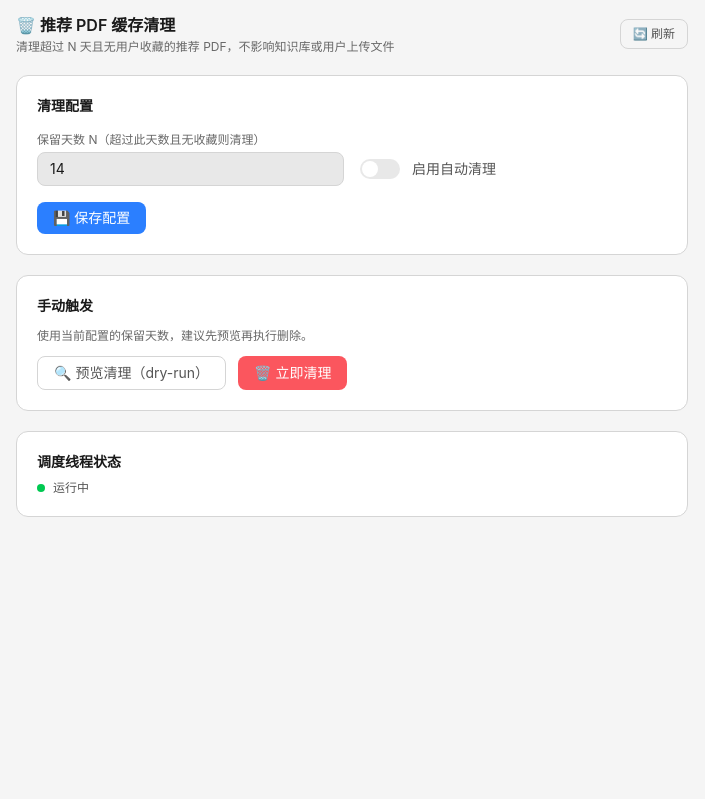
AdminPdfCleanupPanel › runs a dry-run preview and renders normalized results
Click the button "🔍 预览清理（dry-run）": coordinates (132, 373) [37,356,226,390]
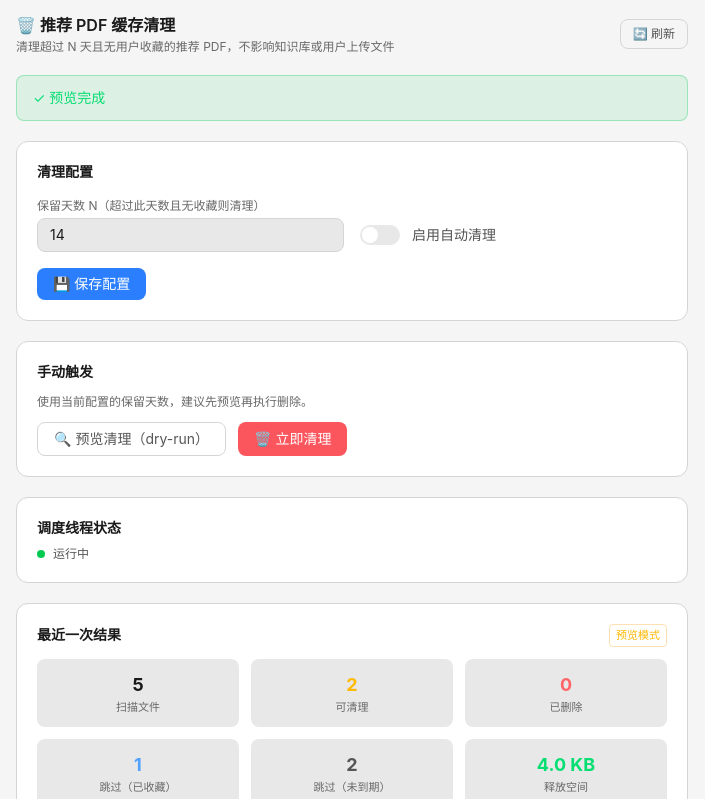
Now the text "预览完成" is shown, box [33,89,105,106]
Now the text "4.0 KB" is shown, box [537,754,595,775]
